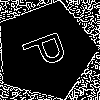P: (20, 25, 77, 73)
